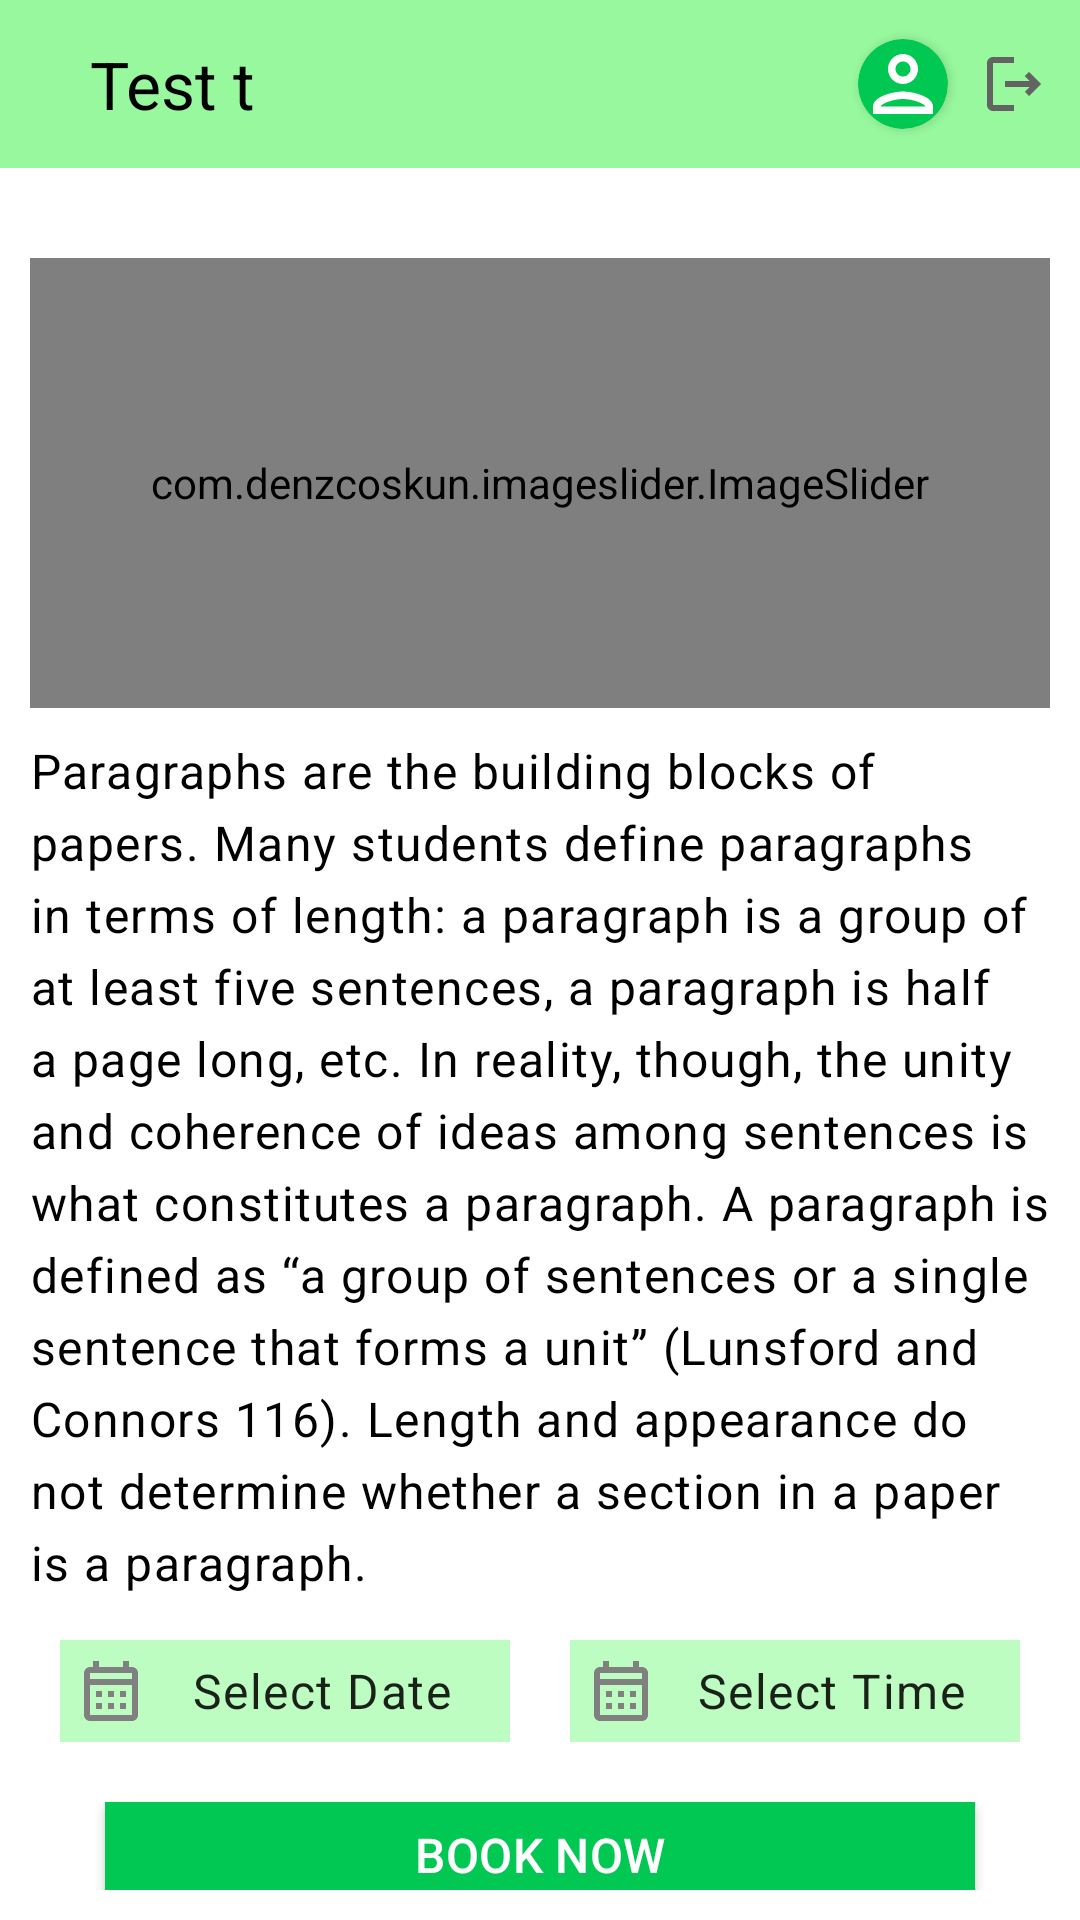

Where to tap for icons on this 1080 × 1920 app screen, as (x,y):
person: (903,84)
